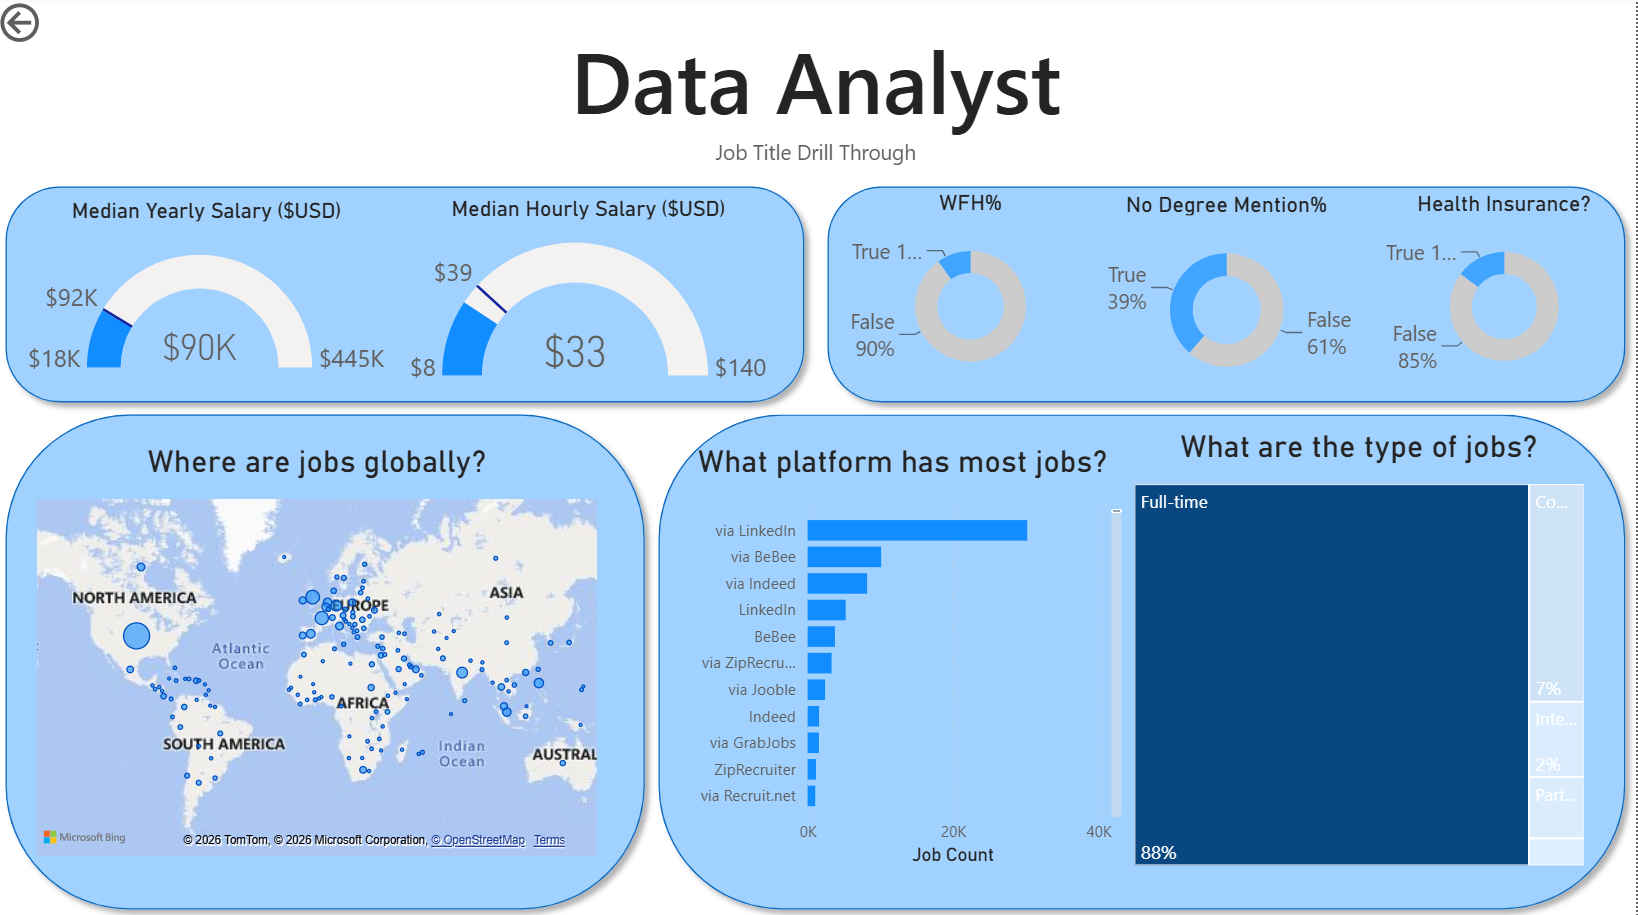

This screenshot's page, from the dashboard's own definition file:
{"tool":"powerbi","page":{"name":"Job Title Drill Through","canvas":[1280,720],"ordinal":1},"visuals":[{"type":"group","id":"g1","title":"Group 1","box":[0,138.8,1280,581],"z":0},{"type":"cardVisual","fields":{"Data":["Min(job_postings_flat.job_title_short)1"]},"box":[270.3,0,740.3,150.2],"z":1000},{"type":"actionButton","box":[0,0,100,40],"z":2000},{"type":"gauge","title":"Median Yearly Salary ($USD)","fields":{"Y":["Median(job_postings_flat.salary_year_avg)"],"MinValue":["Min(job_postings_flat.salary_year_avg)"],"MaxValue":["Max(job_postings_flat.salary_year_avg)1"],"TargetValue":["Avg(job_postings_flat.salary_year_avg)2"]},"box":[16.1,155.7,297.7,152.8],"z":3000},{"type":"gauge","title":"Median Hourly Salary ($USD)","fields":{"Y":["Median(job_postings_flat.salary_hour_avg)"],"MinValue":["Min(job_postings_flat.salary_hour_avg)1"],"MaxValue":["Max(job_postings_flat.salary_hour_avg)2"],"TargetValue":["Avg(job_postings_flat.salary_hour_avg)3"]},"box":[313.8,154.1,297.7,152.8],"z":4000},{"type":"donutChart","title":"Health Insurance?","fields":{"Category":["job_postings_flat.job_health_insurance"],"Y":["CountNonNull(job_postings_flat.job_work_from_home)"]},"box":[1073.8,150.1,206.2,151.7],"z":5000},{"type":"donutChart","title":"No Degree Mention%","fields":{"Category":["job_postings_flat.job_no_degree_mention"],"Y":["CountNonNull(job_postings_flat.job_work_from_home)"]},"box":[846.6,150.9,227,155.5],"z":6000},{"type":"donutChart","title":"WFH%","fields":{"Category":["job_postings_flat.job_work_from_home"],"Y":["CountNonNull(job_postings_flat.job_work_from_home)"]},"box":[651.6,149.3,219.1,152.8],"z":7000},{"type":"map","title":"Where are jobs globally?","fields":{"Category":["job_postings_flat.job_country"],"Size":["CountNonNull(job_postings_flat.job_title_short)"]},"box":[28.9,348.3,446.2,325.8],"z":8000},{"type":"treemap","title":"What are the type of jobs?","fields":{"Group":["job_postings_flat.job_schedule_type"],"Values":["CountNonNull(job_postings_flat.job_schedule_type)"]},"box":[883.6,336.3,360.3,345.1],"z":9000},{"type":"barChart","title":"What platform has most jobs?","fields":{"Category":["job_postings_flat.job_via"],"Y":["CountNonNull(job_postings_flat.job_via)"]},"box":[532.9,348.3,350.7,333],"z":10000},{"type":"shape","box":[640.4,138.8,639.6,186.2],"z":13062,"group":"g1"},{"type":"shape","box":[508.8,316.2,771.2,403.7],"z":13125,"group":"g1"},{"type":"shape","box":[0,316.2,516,403.7],"z":13250,"group":"g1"},{"type":"shape","box":[0,138.8,640.4,186.2],"z":13500,"group":"g1"}]}

Visuals, with their boxes in screenshot pixels (x1, y1, x2, y2), scaled from the page's 1280x720 canvas onto the 1638x915 screenshot:
"Group 1" group: {"x1": 0, "y1": 176, "x2": 1637, "y2": 914}
cardVisual - Min(job_postings_flat.job_title_short)1: {"x1": 346, "y1": 0, "x2": 1293, "y2": 191}
actionButton: {"x1": 0, "y1": 0, "x2": 128, "y2": 51}
"Median Yearly Salary ($USD)" gauge: {"x1": 21, "y1": 198, "x2": 402, "y2": 392}
"Median Hourly Salary ($USD)" gauge: {"x1": 402, "y1": 196, "x2": 783, "y2": 390}
"Health Insurance?" donutChart: {"x1": 1374, "y1": 191, "x2": 1637, "y2": 384}
"No Degree Mention%" donutChart: {"x1": 1083, "y1": 192, "x2": 1374, "y2": 389}
"WFH%" donutChart: {"x1": 834, "y1": 190, "x2": 1114, "y2": 384}
"Where are jobs globally?" map: {"x1": 37, "y1": 443, "x2": 608, "y2": 857}
"What are the type of jobs?" treemap: {"x1": 1131, "y1": 427, "x2": 1592, "y2": 866}
"What platform has most jobs?" barChart: {"x1": 682, "y1": 443, "x2": 1131, "y2": 866}
shape: {"x1": 820, "y1": 176, "x2": 1637, "y2": 413}
shape: {"x1": 651, "y1": 402, "x2": 1637, "y2": 914}
shape: {"x1": 0, "y1": 402, "x2": 660, "y2": 914}
shape: {"x1": 0, "y1": 176, "x2": 820, "y2": 413}
